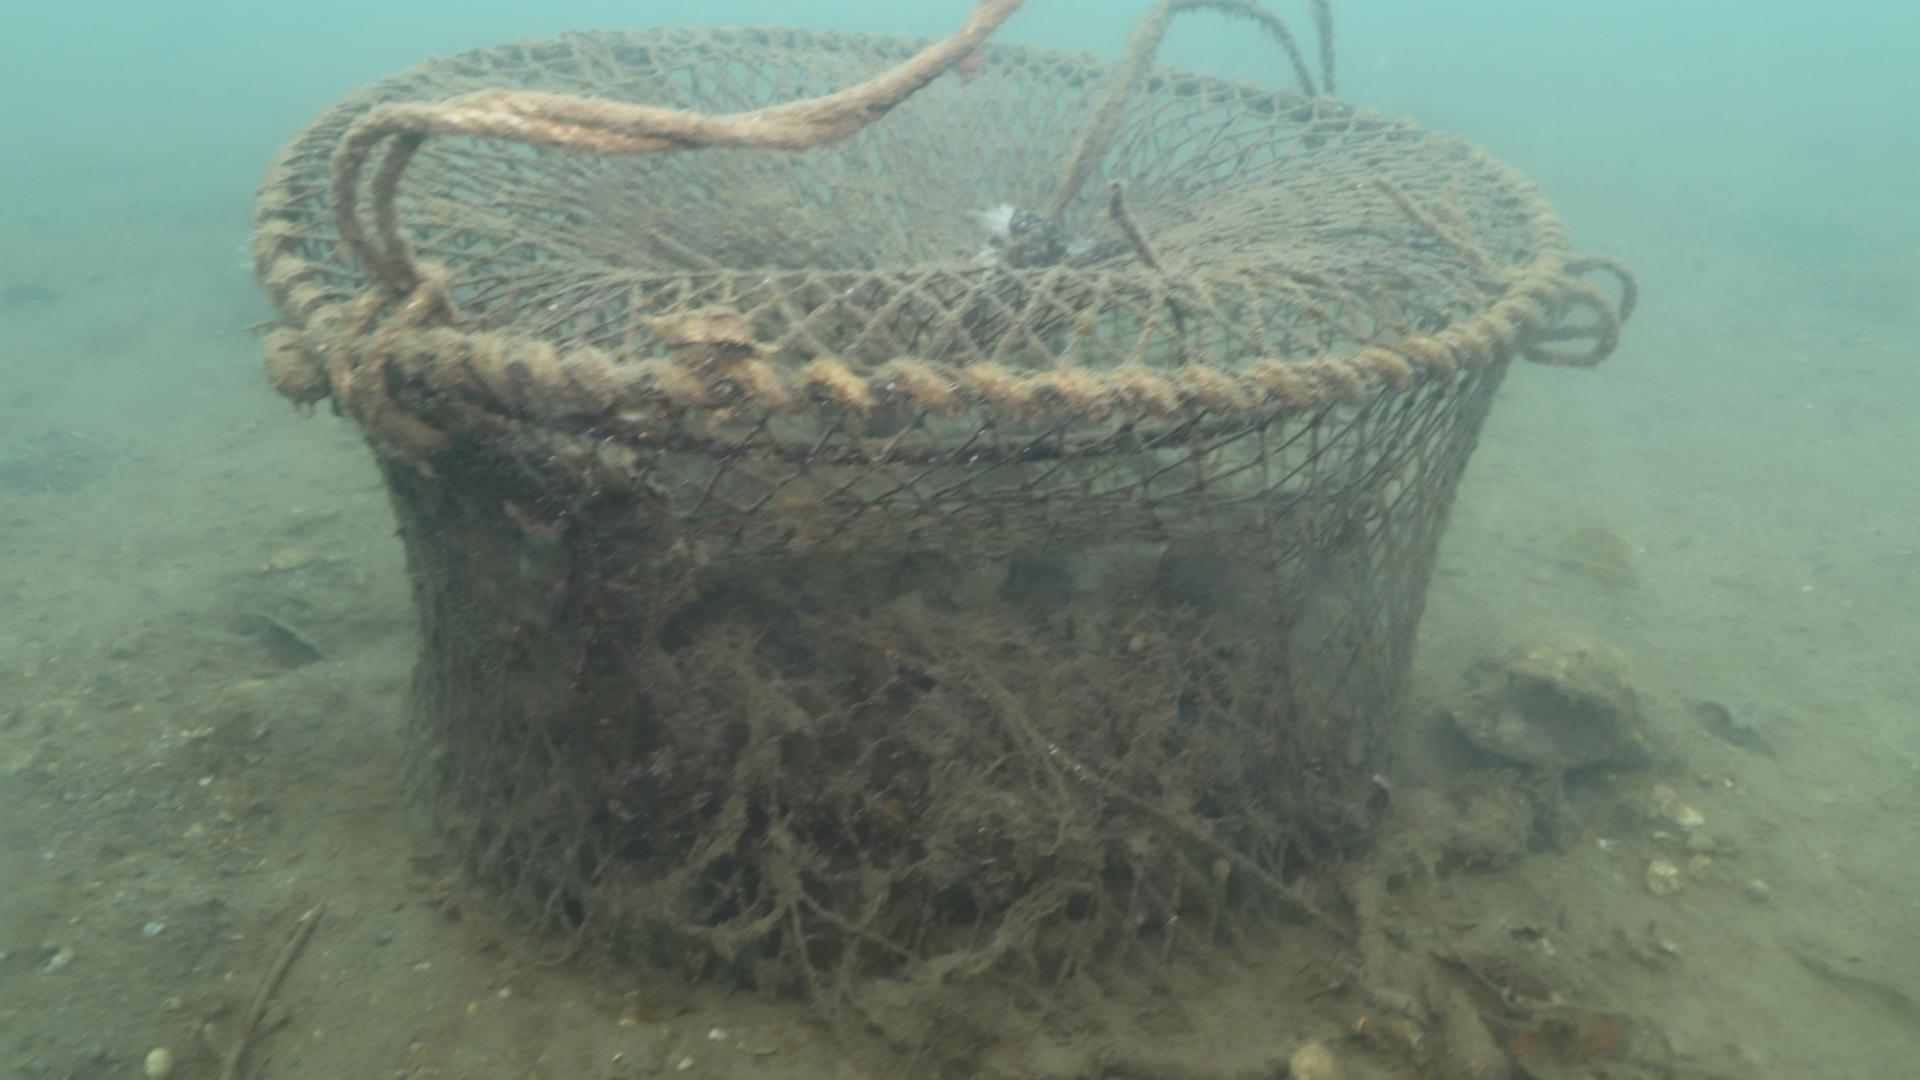circular fish trap: (247, 30, 1567, 1027)
